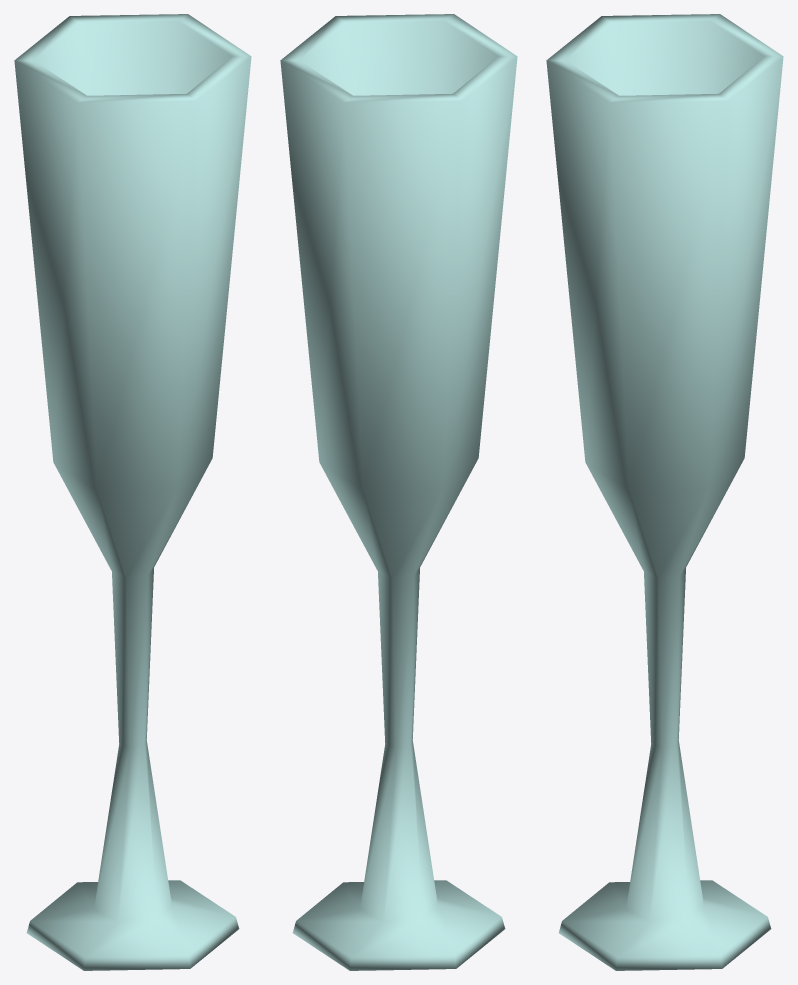
File: champagne2.fbx
3 views of the same model, side by side, from view 1: azimuth 30°, elevation 25°; view 2: azimuth 150°, elevation 25°; view 3: azimuth 270°, elevation 25° (orthographic).
Parts seen in each view (by area): view 1: champagne2; view 2: champagne2; view 3: champagne2.
Boxes of the visible parts, bbox=[...] form: champagne2: bbox=[14, 14, 251, 970]; champagne2: bbox=[280, 14, 517, 970]; champagne2: bbox=[546, 14, 783, 970].
Bounding box in the file's own units: 6.55 × 30 × 7.39.
